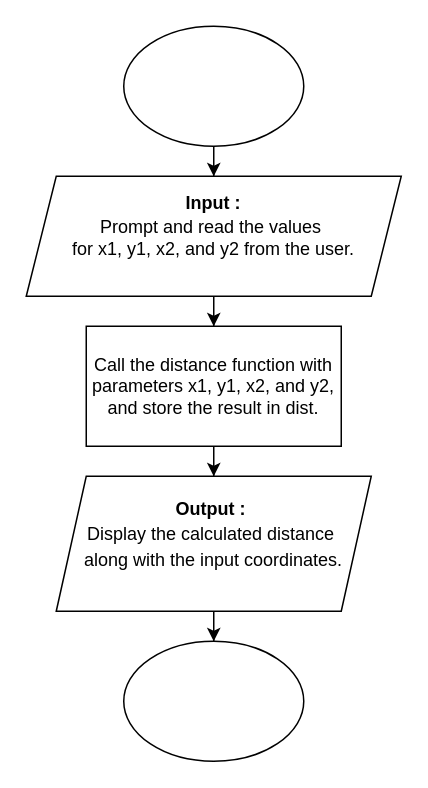
The diagram is 428 pixels wide and 788 high, and some of its shapes have lost their labels. The box of each missing label's shape, as (x1, y1, x2, y2) in pixels:
End: (122, 640, 304, 761)
Start: (122, 25, 304, 146)
